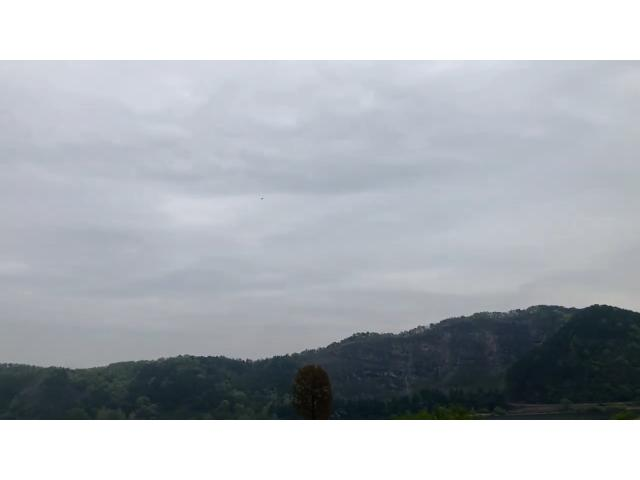Anti-Drone: (256, 192, 274, 206)
